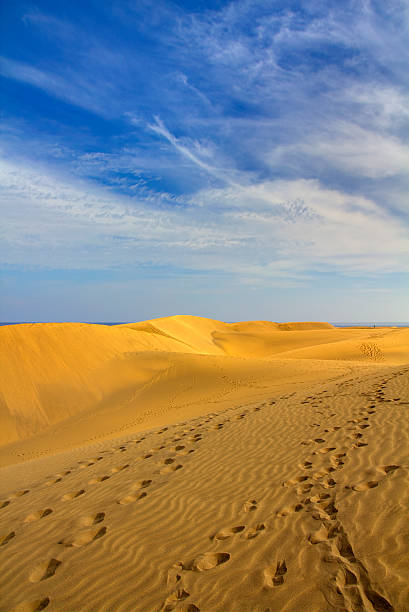human_foot_print: (307, 486, 392, 610), (309, 512, 392, 611), (275, 446, 346, 517), (160, 552, 230, 611), (167, 552, 230, 584), (58, 511, 106, 547), (345, 464, 399, 491), (209, 517, 265, 542), (210, 522, 265, 540), (59, 526, 106, 546), (160, 587, 199, 611), (183, 552, 230, 571), (117, 479, 151, 504), (29, 558, 61, 582), (263, 559, 287, 587), (10, 596, 50, 611), (0, 489, 28, 508), (210, 525, 245, 540), (24, 507, 52, 522), (275, 502, 303, 517), (78, 511, 105, 526), (243, 522, 265, 539), (47, 467, 74, 480), (117, 492, 146, 504), (312, 465, 335, 480), (77, 456, 103, 468), (350, 480, 378, 491), (283, 475, 308, 487), (155, 462, 182, 473), (329, 452, 346, 468), (61, 489, 85, 500), (295, 481, 313, 494), (309, 492, 330, 503), (172, 444, 194, 454), (378, 464, 400, 474), (278, 551, 290, 569), (0, 531, 15, 545), (88, 474, 109, 484), (300, 437, 325, 445), (132, 479, 151, 489), (110, 464, 129, 473), (243, 499, 257, 511), (321, 477, 336, 488), (45, 476, 61, 486), (158, 457, 174, 466), (313, 447, 335, 453), (187, 434, 202, 442), (141, 449, 153, 458), (299, 460, 312, 468), (324, 426, 340, 432), (0, 499, 10, 508), (352, 432, 363, 440), (360, 410, 368, 421), (353, 441, 367, 447), (211, 422, 223, 429), (173, 444, 185, 451), (156, 427, 168, 434), (367, 406, 376, 415), (131, 437, 144, 443), (115, 445, 126, 452), (154, 444, 165, 451), (236, 412, 246, 419), (313, 437, 324, 443), (347, 418, 358, 424), (358, 423, 369, 429), (253, 405, 263, 411), (311, 422, 320, 426)
